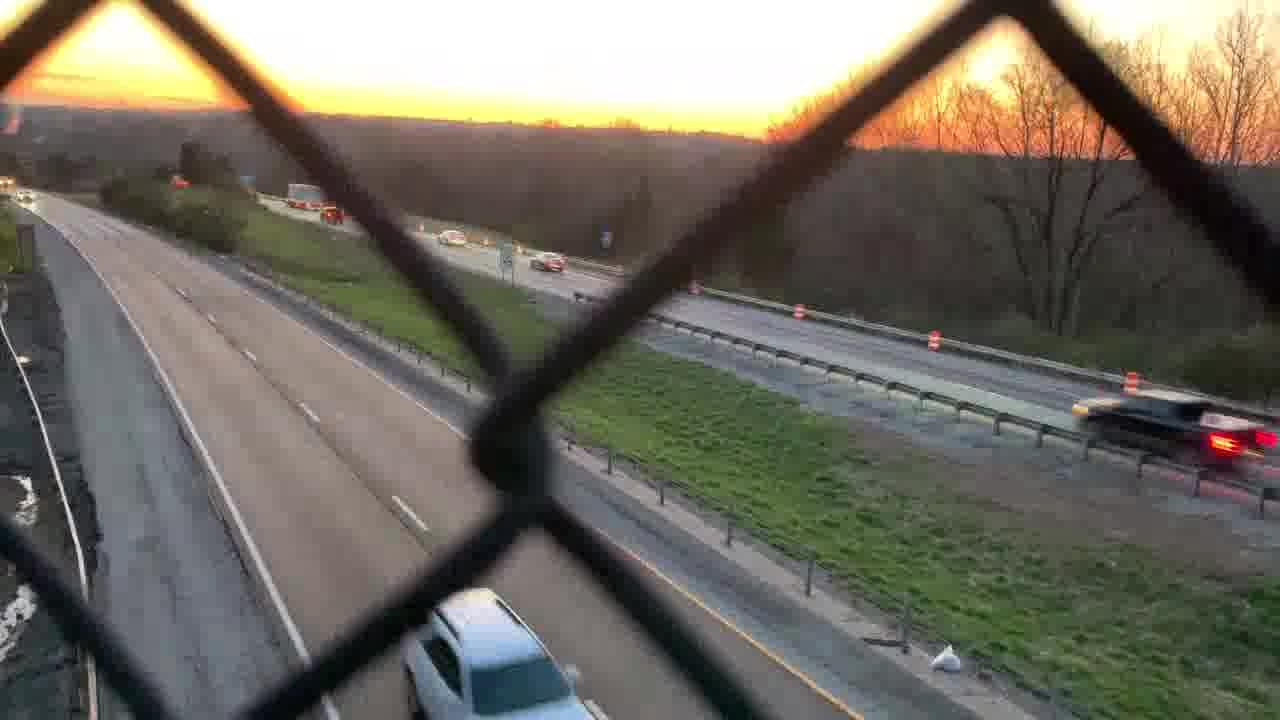heavyTruck: (279, 181, 325, 209)
largeCar: (396, 585, 619, 720)
lightTruck: (1079, 387, 1266, 476), (319, 205, 343, 227)
smallCar: (528, 249, 569, 273), (435, 229, 467, 249)
vehicle: (13, 188, 30, 203)
